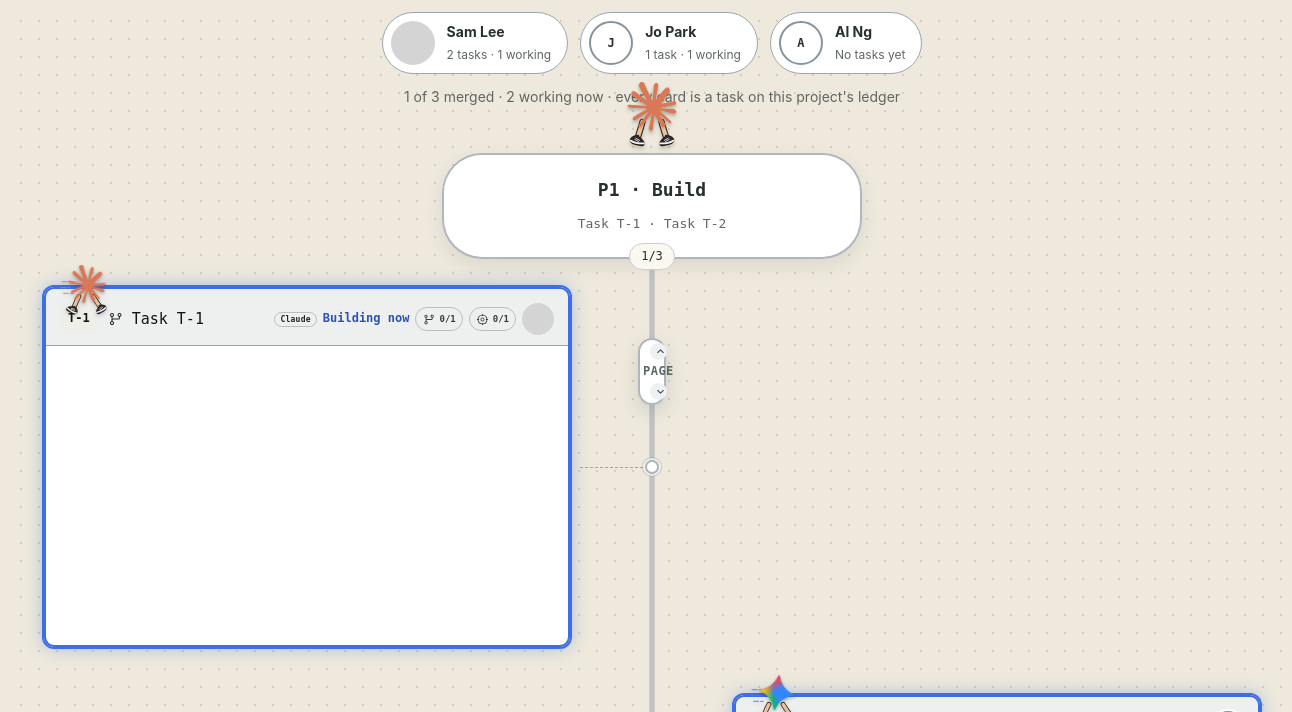
Test case: a person's own spine › opening a person shows their head, only their tasks and a runner per model building; back returns
What coordinates should you click on to do the following:
click the button with aria-label "Open Sam Lee's spine"
I would click on:
 (475, 43)
Its box is [382,12,568,74].
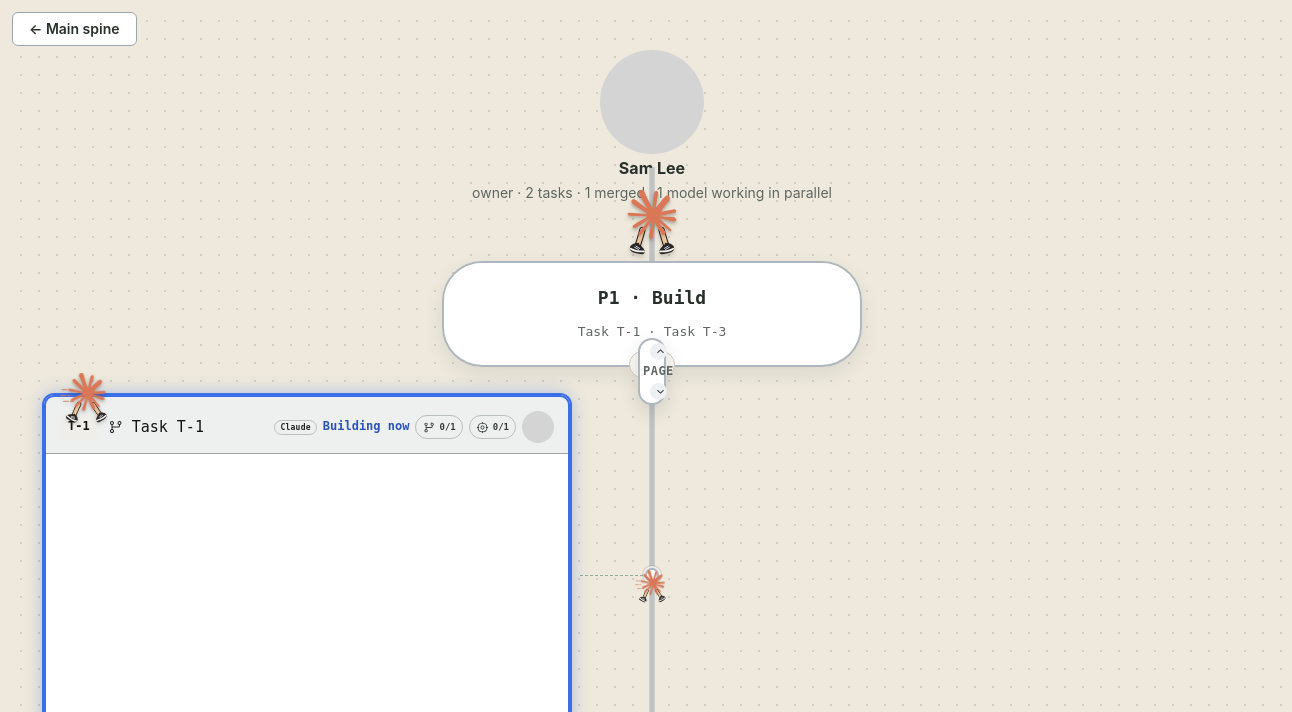
Expected: the message reads "owner · 2 tasks · 1 merged · 1 model working in parallel", [472,182,832,204]
What coordinates should you click on to do the following:
click the button "← Main spine"
I would click on:
 (74, 29)
Its box is [12,12,136,46].
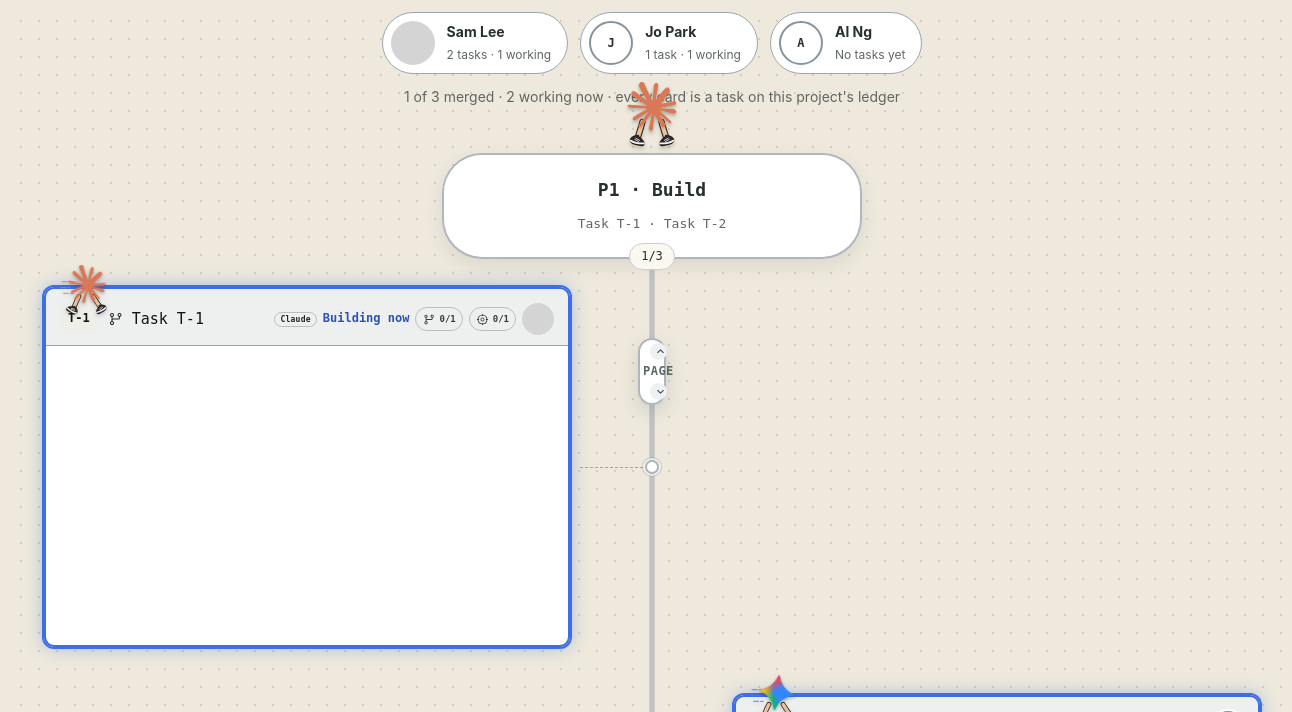
What coordinates should you click on to do the following:
click the button with aria-label "Open Jo Park's spine"
I would click on:
 (669, 43)
Its box is [580,12,758,74].
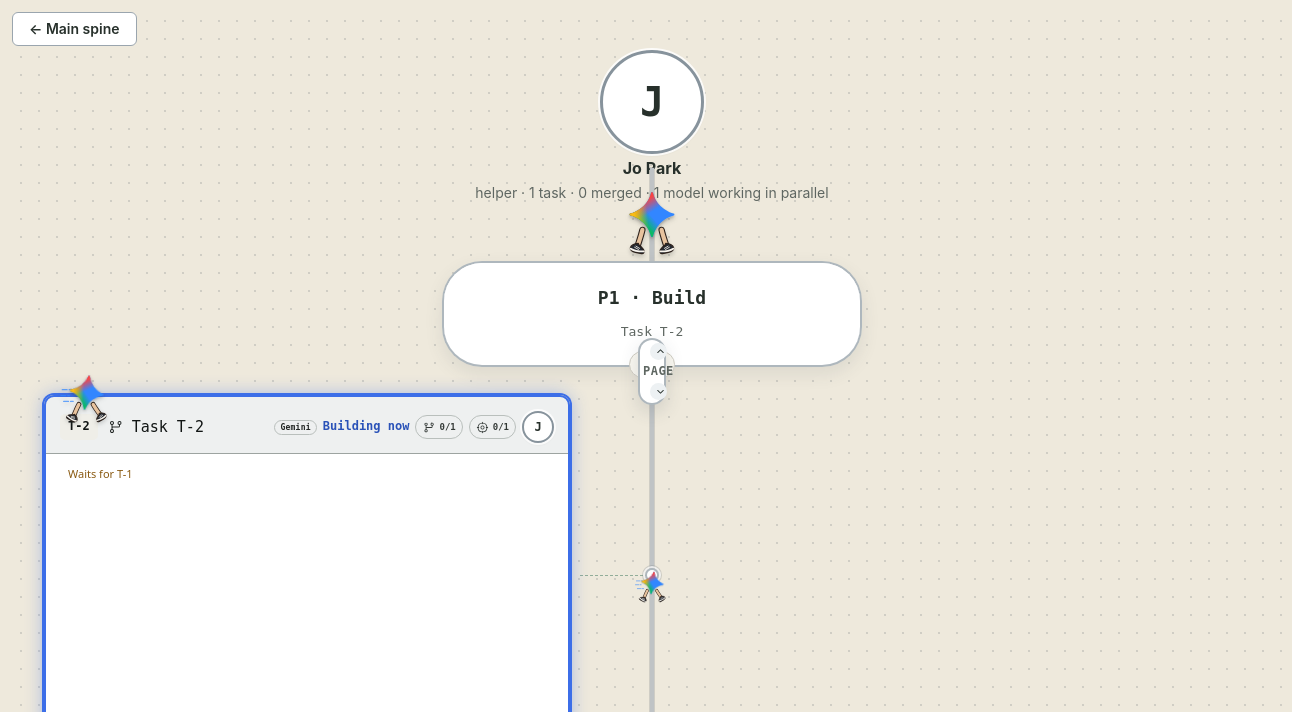
Expected: the heading "Jo Park" is shown, [623,158,681,178]
What coordinates should you click on to do the following:
click the button "← Main spine"
I would click on:
 (74, 29)
Its box is [12,12,136,46].
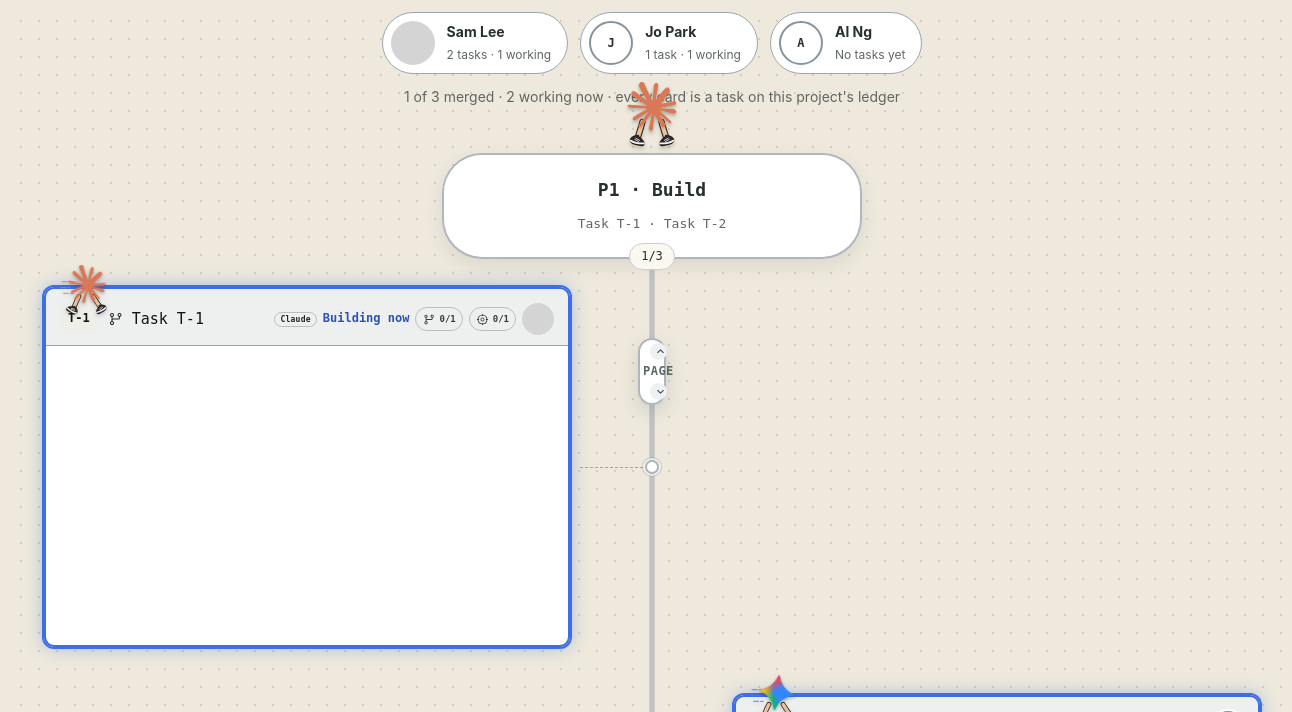
Expected: the list named "People on this project" is shown, [382,12,922,74]
